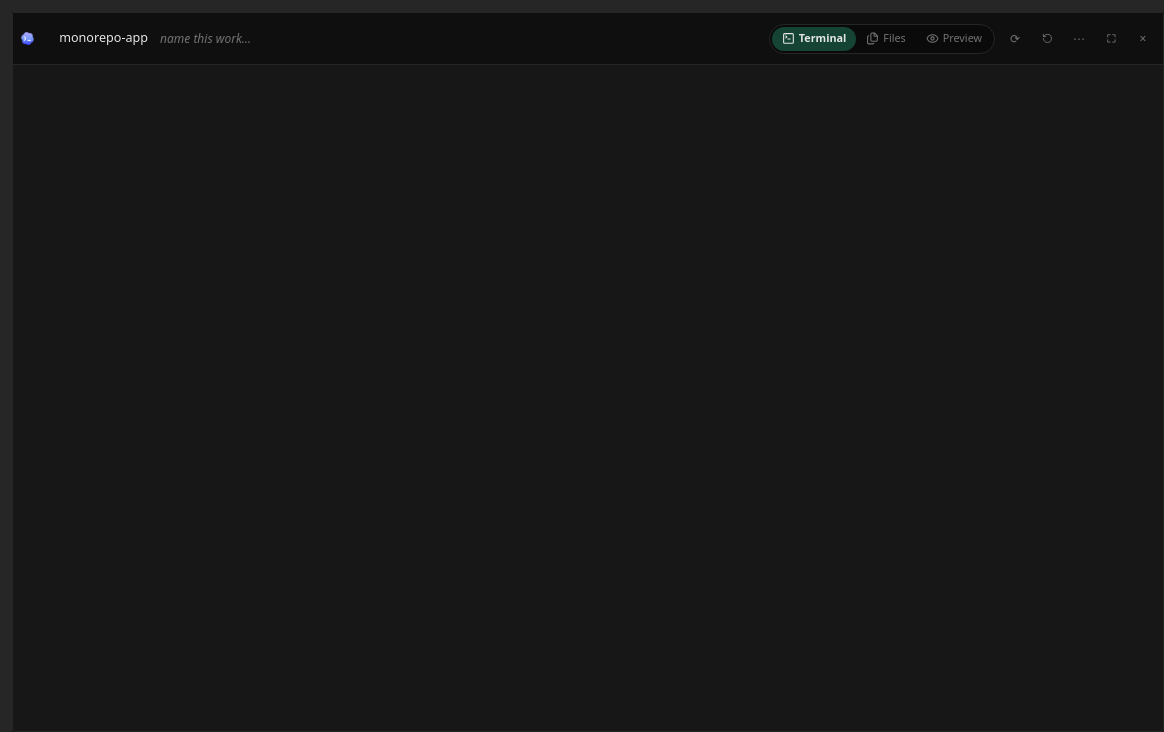
Tile header context menu: IDs › does not label a stale Claude binding as the session ID of a Codex tile
Right-click the element showing "monorepo-app name this work… Terminal Files Preview ⟳ ⋯ ×" at (588, 39), box [13,13,1163,65]
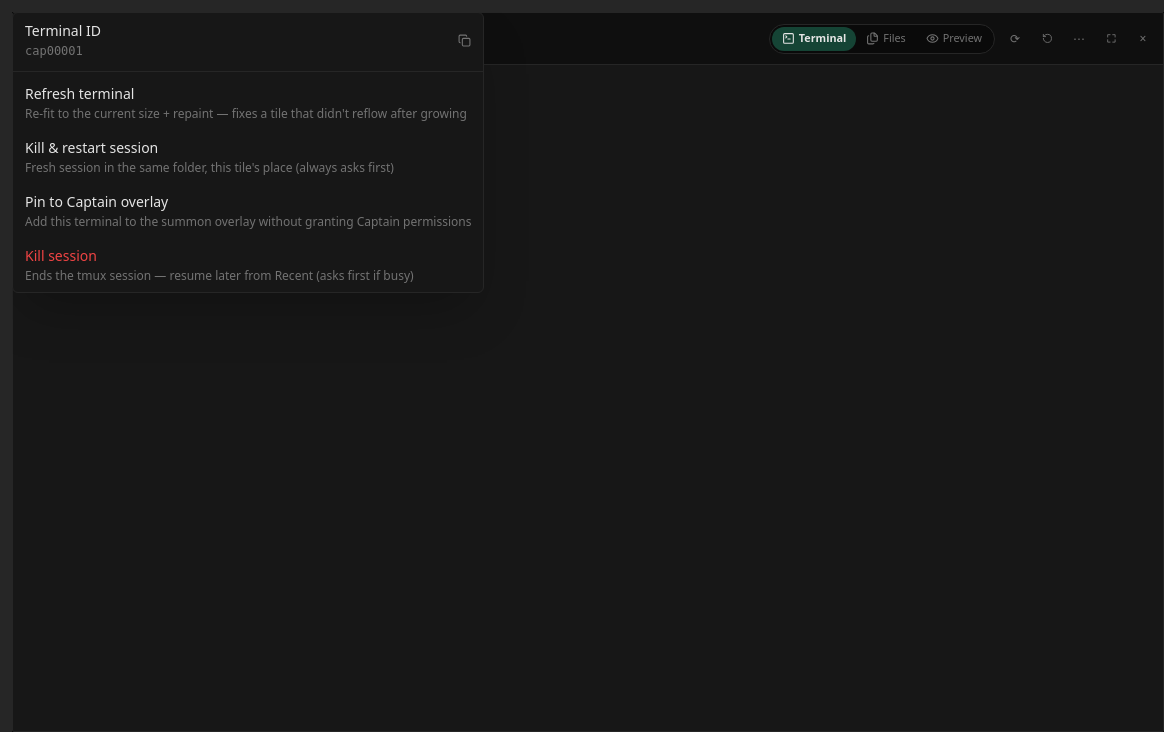
Expected: the text "Terminal ID" is shown, [13,13,484,67]
